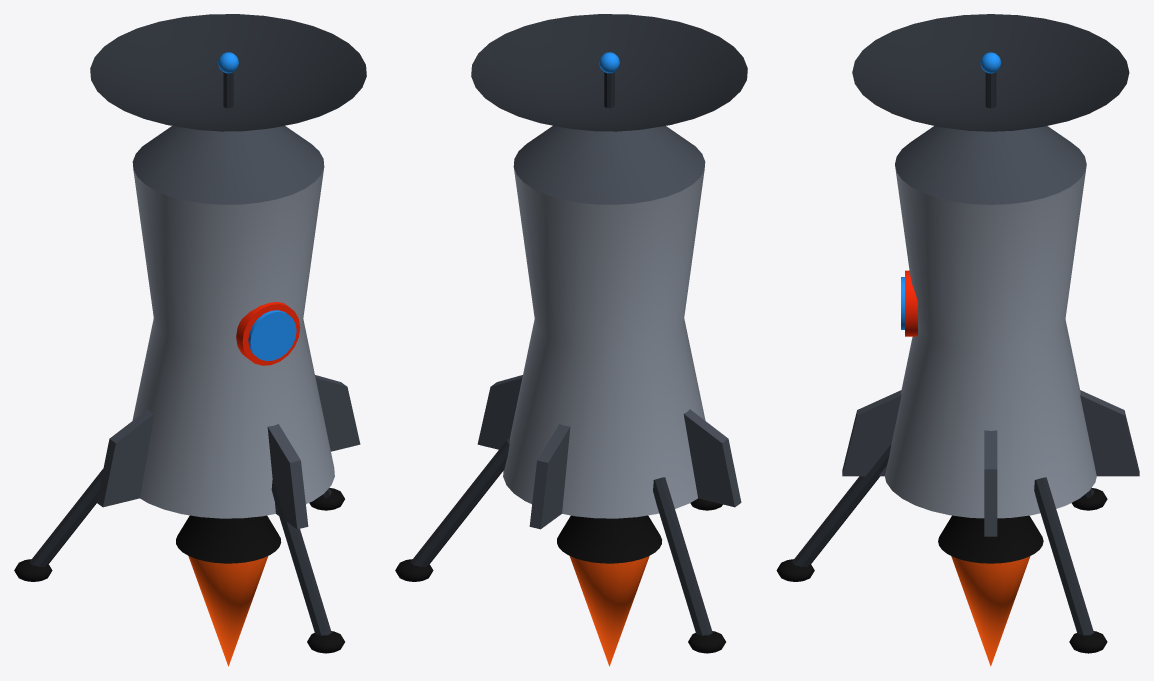
Rendered from Rocket_11_OrbiterDish.obj.
3 renders of one model, left to right at view 1: azimuth 30°, elevation 25°; view 2: azimuth 150°, elevation 25°; view 3: azimuth 270°, elevation 25°, orthographic.
Parts seen in each view (by area): view 1: R11_Body, R11_Dish, R11_Nose, R11_Nozzle_1, R11_Flame_1, R11_Fin_2, R11_Fin_3, R11_Fin_4, R11_Leg_3, R11_Window_1, R11_Leg_2, R11_WindowFrame_1 (+2 smaller); view 2: R11_Body, R11_Dish, R11_Nose, R11_Nozzle_1, R11_Flame_1, R11_Fin_2, R11_Fin_1, R11_Leg_2, R11_Leg_1, R11_Fin_4, R11_Foot_2, R11_Foot_1; view 3: R11_Body, R11_Dish, R11_Nose, R11_Flame_1, R11_Nozzle_1, R11_Fin_1, R11_Fin_3, R11_Leg_1, R11_Leg_3, R11_Fin_4, R11_WindowFrame_1, R11_Foot_1 (+1 smaller).
Boxes of the visible parts, x1,y1,x2,y2 form: R11_Body: (132, 167, 334, 518); R11_Dish: (90, 14, 366, 131); R11_Nose: (132, 125, 324, 204); R11_Nozzle_1: (176, 515, 281, 563); R11_Flame_1: (188, 556, 268, 666); R11_Fin_2: (96, 409, 154, 507); R11_Fin_3: (267, 424, 308, 529); R11_Fin_4: (315, 375, 360, 451); R11_Leg_3: (271, 480, 331, 635); R11_Window_1: (248, 310, 296, 360); R11_Leg_2: (29, 469, 103, 567); R11_WindowFrame_1: (236, 302, 300, 365); R11_Body: (503, 168, 705, 518); R11_Dish: (471, 14, 747, 131); R11_Nose: (513, 125, 705, 204); R11_Nozzle_1: (557, 515, 661, 563); R11_Flame_1: (569, 556, 649, 666); R11_Fin_2: (683, 409, 741, 507); R11_Fin_1: (529, 424, 570, 529); R11_Leg_2: (653, 477, 712, 635); R11_Leg_1: (410, 439, 509, 567); R11_Fin_4: (477, 375, 522, 449); R11_Foot_2: (688, 631, 725, 653); R11_Foot_1: (395, 559, 433, 581); R11_Body: (885, 166, 1096, 518); R11_Dish: (852, 14, 1129, 131); R11_Nose: (895, 126, 1086, 204); R11_Flame_1: (951, 556, 1030, 666); R11_Nozzle_1: (938, 515, 1043, 563); R11_Fin_1: (1080, 390, 1139, 476); R11_Fin_3: (842, 390, 901, 476); R11_Leg_1: (1034, 477, 1093, 635); R11_Leg_3: (792, 445, 891, 567); R11_Fin_4: (984, 430, 997, 536); R11_WindowFrame_1: (905, 270, 917, 336); R11_Foot_1: (1069, 631, 1107, 653).
Bounding box in the file's own units: 3.53 × 6.35 × 3.4.
